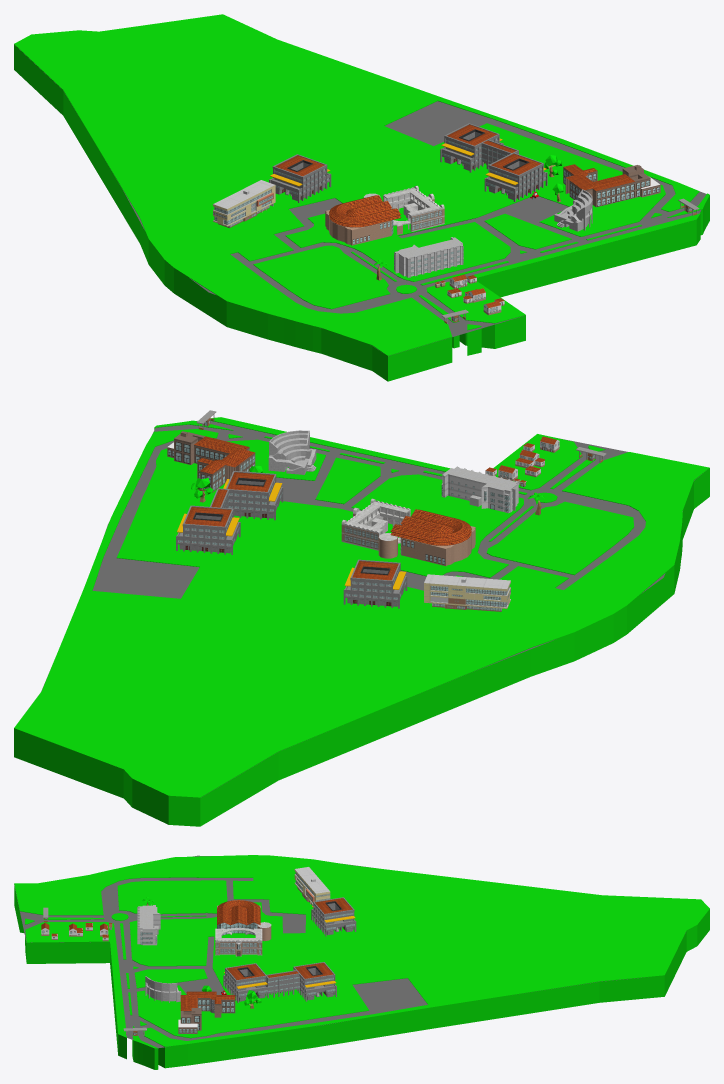
Rendered from campus_3D.fbx.
3 views of the same model, one above another, from view 1: azimuth 30°, elevation 25°; view 2: azimuth 150°, elevation 25°; view 3: azimuth 270°, elevation 25° (orthographic). The views are drawn at different scales.
Parts seen in each view (by area): view 1: zonas_verdes2, carretera, bloque_21_14, biblioteca_central, bloque_11, bloque_46, bloque_19a, bloque_43, bloque_41, bloque_12; view 2: zonas_verdes2, carretera, bloque_21_14, biblioteca_central, bloque_11, bloque_43, bloque_46, bloque_41, bloque_19a, bloque_12; view 3: zonas_verdes2, carretera, bloque_21_14, bloque_11, bloque_46, bloque_41, biblioteca_central, bloque_19a, bloque_43, bloque_12.
Part boxes in pixels (x1,y1,x2,y2): zonas_verdes2: (14, 14, 709, 381); carretera: (14, 44, 706, 356); bloque_21_14: (440, 123, 547, 201); biblioteca_central: (325, 195, 404, 245); bloque_11: (563, 164, 660, 207); bloque_46: (269, 154, 331, 202); bloque_19a: (394, 237, 463, 277); bloque_43: (213, 180, 275, 227); bloque_41: (363, 185, 444, 234); bloque_12: (554, 189, 592, 231); zonas_verdes2: (14, 417, 709, 826); carretera: (41, 421, 701, 797); bloque_21_14: (176, 471, 283, 554); biblioteca_central: (390, 509, 475, 565); bloque_11: (167, 431, 255, 492); bloque_43: (424, 574, 510, 611); bloque_46: (343, 559, 407, 608); bloque_41: (341, 498, 410, 558); bloque_19a: (441, 466, 518, 513); bloque_12: (268, 430, 316, 474); zonas_verdes2: (14, 855, 709, 1069); carretera: (14, 855, 685, 1048); bloque_21_14: (223, 962, 336, 1002); bloque_11: (178, 991, 235, 1033); bloque_46: (311, 897, 356, 936); bloque_41: (215, 922, 271, 956); biblioteca_central: (217, 900, 260, 935); bloque_19a: (137, 904, 160, 945); bloque_43: (294, 867, 330, 905); bloque_12: (145, 976, 181, 1002).
Size of the model in its own units: 160734 by 16408 by 244429.
